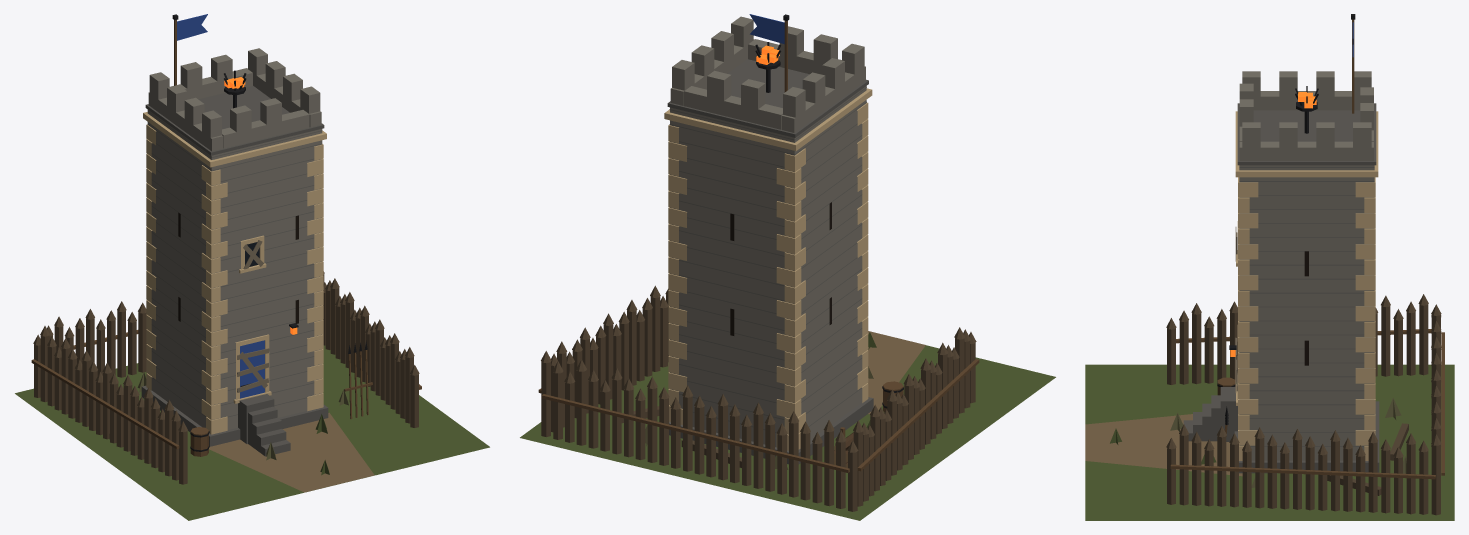
File: wachturm.glb
The picture shows the model from 3 angles, left to right: view 1: azimuth 30°, elevation 25°; view 2: azimuth 150°, elevation 25°; view 3: azimuth 270°, elevation 25°; orthographic projection. The views are drawn at different scales.
Parts seen in each view (by area): view 1: Haus, Arbeit, Leerstand, Fahne; view 2: Haus, Fahne, Arbeit; view 3: Haus, Leerstand, Arbeit.
Boxes of the visible parts, x1=… form: Haus: x1=15, y1=48, x2=489, y2=520; Arbeit: x1=118, y1=77, x2=372, y2=456; Leerstand: x1=109, y1=240, x2=348, y2=475; Fahne: x1=172, y1=14, x2=207, y2=85; Haus: x1=520, y1=16, x2=1055, y2=520; Fahne: x1=749, y1=14, x2=789, y2=92; Arbeit: x1=756, y1=45, x2=903, y2=472; Haus: x1=1085, y1=71, x2=1454, y2=520; Leerstand: x1=1110, y1=227, x2=1408, y2=495; Arbeit: x1=1217, y1=92, x2=1316, y2=436.
Size of the model in its own units: 12 by 14.64 by 12.
